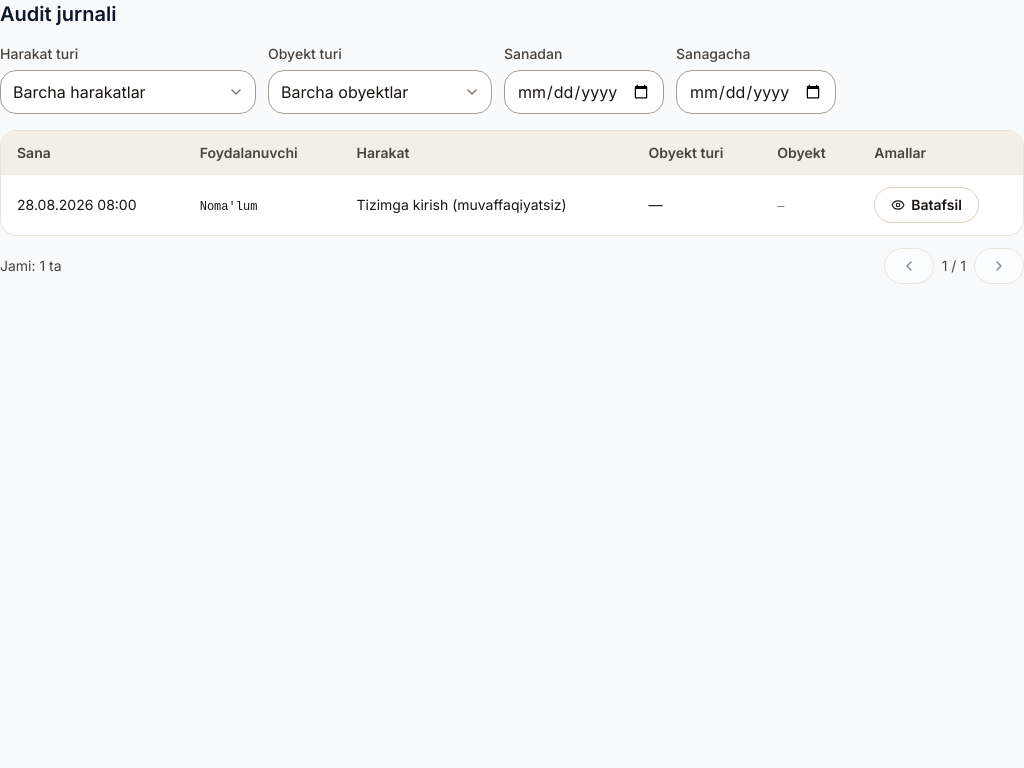
it: AuditLogPage › diff bo'lmagan yozuvda tushunarli bo'sh xabar ko'rsatiladi
Step 1. Click the button "Batafsil" → (927, 205), box [874, 187, 979, 223]
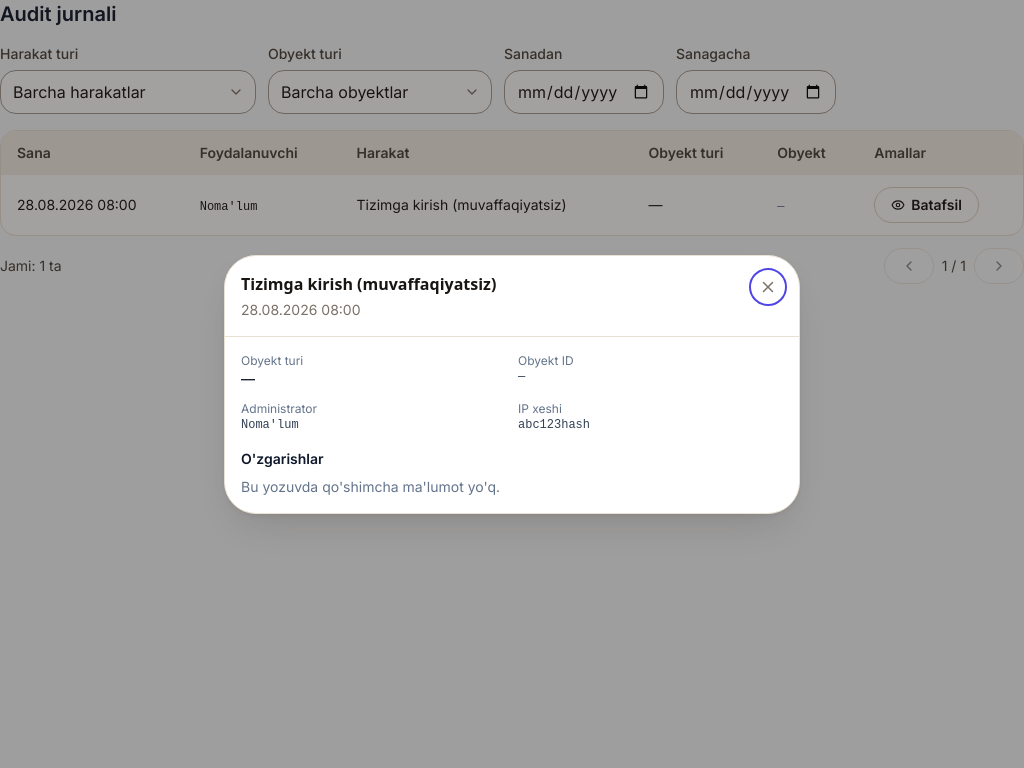
Expected: the text "Bu yozuvda qo'shimcha ma'lumot yo'q." is shown, [241, 478, 500, 494]
